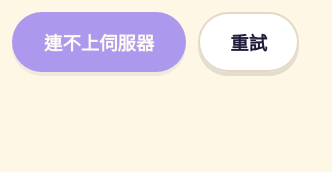
Test: ServerButton › shows 連不上伺服器 and a 重試 button after the wait, and retry reconnects
Expected: the button "連不上伺服器" is shown, [12, 12, 186, 72]
Click the button "重試": coordinates (249, 42) [198, 12, 299, 72]
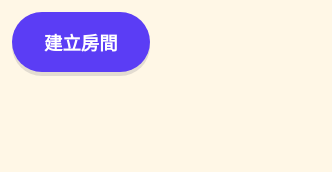
Expected: the button "建立房間" is enabled, [12, 12, 150, 72]
Expected: the button "連不上伺服器" is gone
